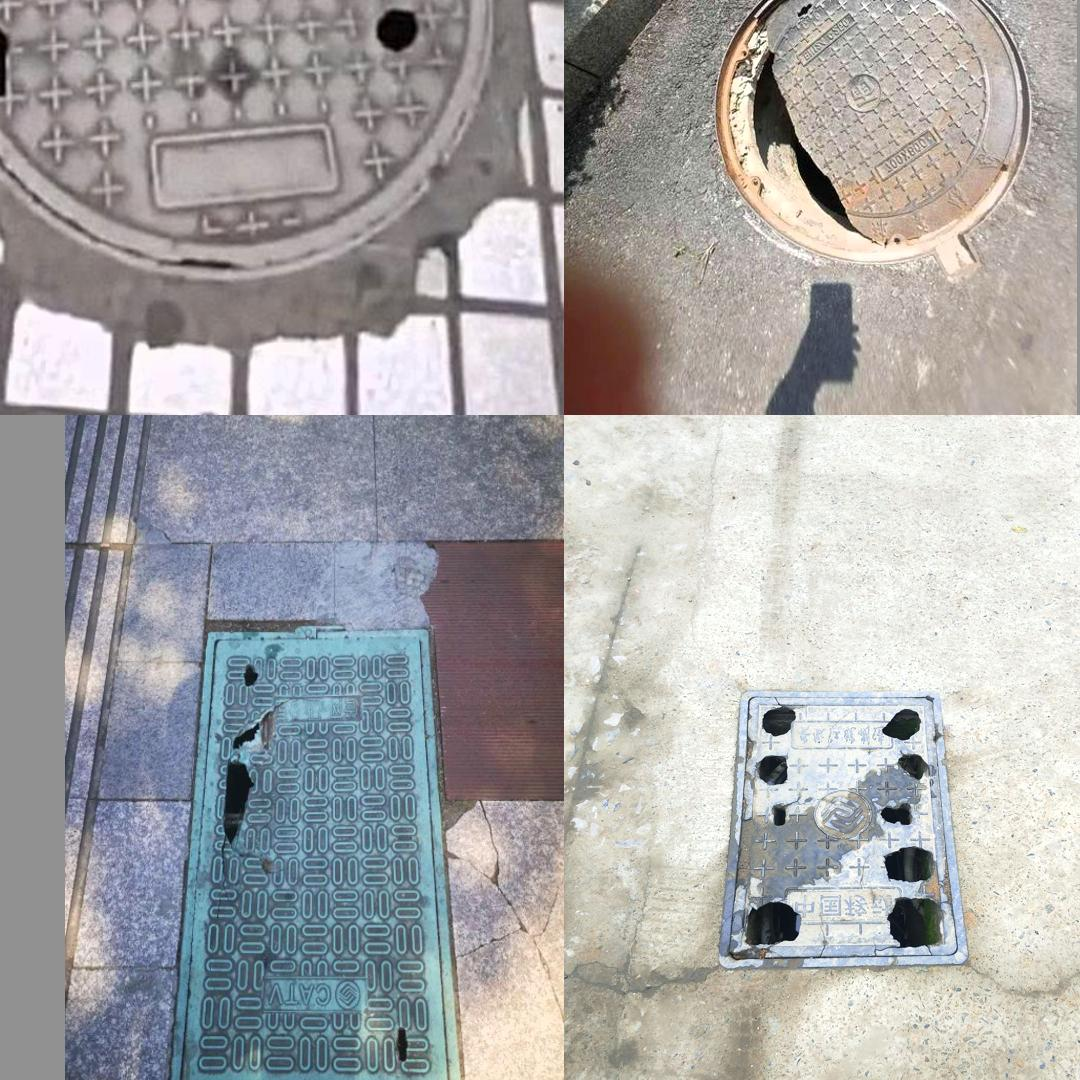broke: (0, 0, 496, 284), (164, 626, 462, 1080), (705, 0, 1039, 276), (717, 691, 968, 971)
